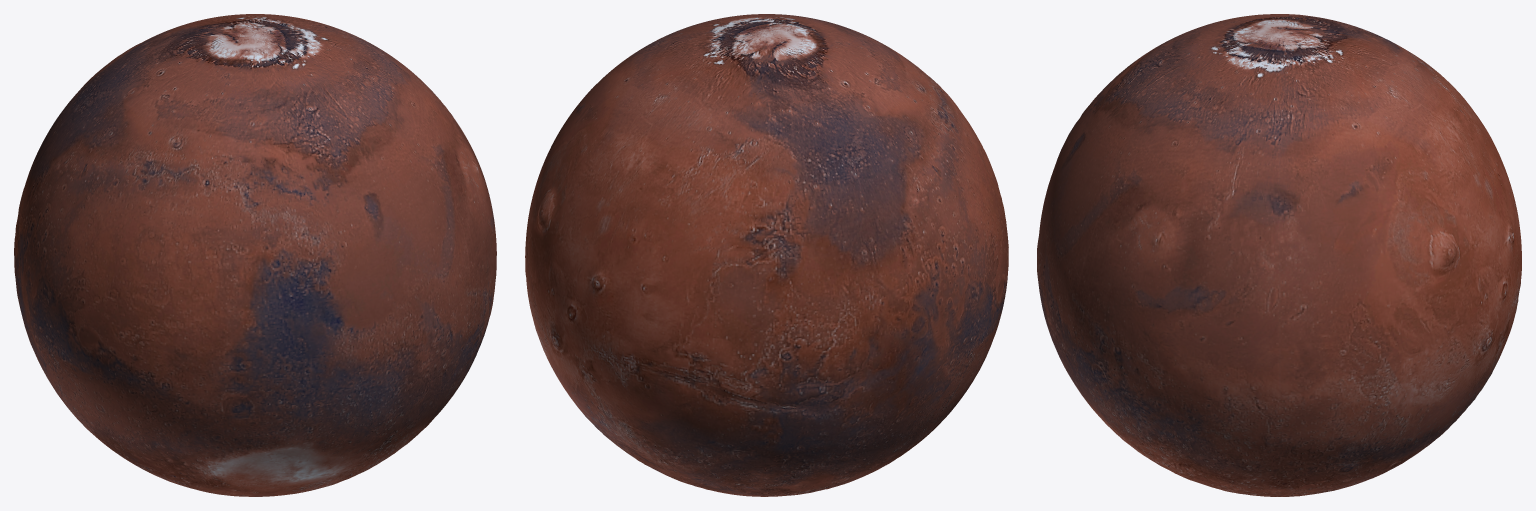
Rendered from mars_global.glb.
3 views of the same model, side by side, from view 1: azimuth 30°, elevation 25°; view 2: azimuth 150°, elevation 25°; view 3: azimuth 270°, elevation 25° (orthographic).
Parts seen in each view (by area): view 1: Mars_Global_Clean; view 2: Mars_Global_Clean; view 3: Mars_Global_Clean.
Boxes of the visible parts, x1,y1,x2,y2 form: Mars_Global_Clean: (14,14,496,496); Mars_Global_Clean: (525,14,1008,496); Mars_Global_Clean: (1037,14,1521,496).
Bounding box in the file's own units: 6.78 × 6.81 × 6.81.
Materials: 1 (1 with a texture image).
